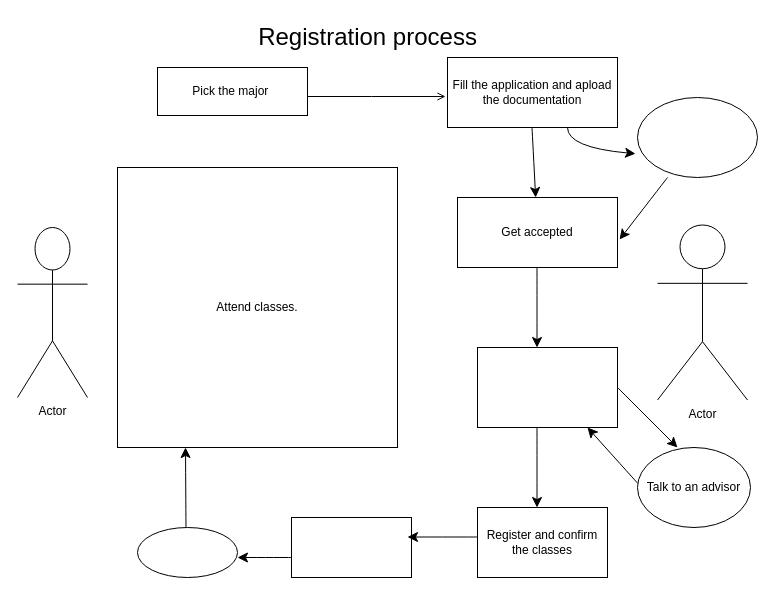
The diagram is 775 pixels wide and 595 high, and some of its shapes have lost their labels. The shapes that lost their labels are listed below. From the top down, each one's centre as x and y in pixels, then its label:
[697,137]: School receives the documentation and delivers the acceptation letter
[547,387]: Pick classes and Build your schedule and
[187,552]: Check books and get ready
[351,547]: Make the payment
